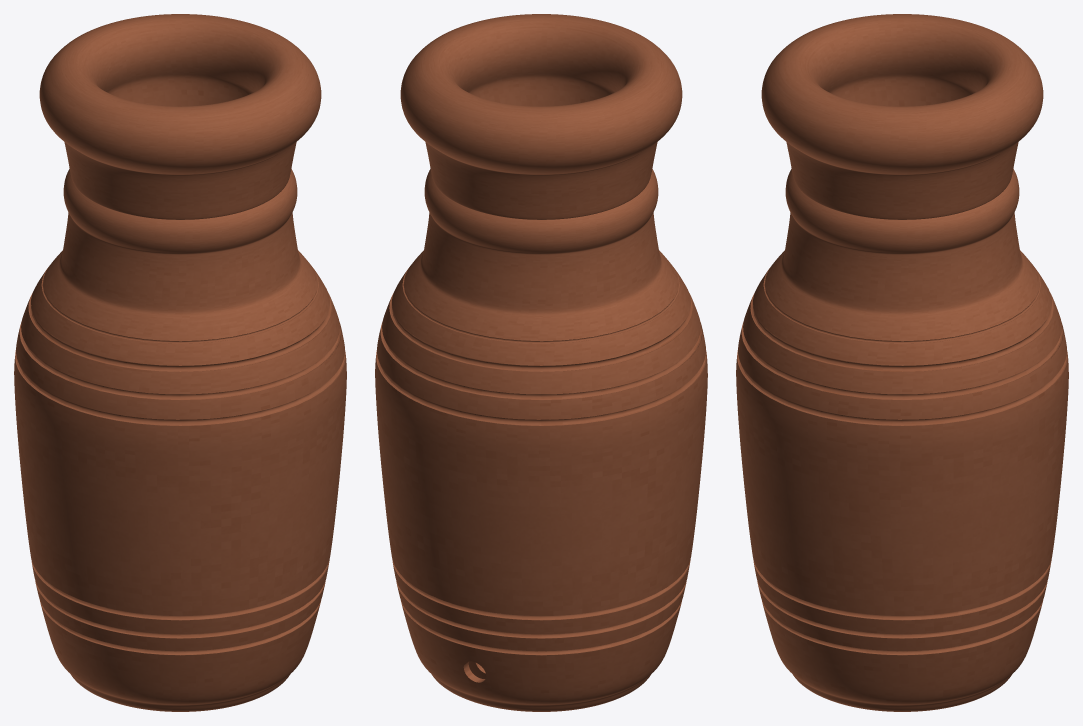
The model's file is baa6980b-ff7c-433e-bec2-0d16cbe5fe07.glb.
3 views of the same model, side by side, from view 1: azimuth 30°, elevation 25°; view 2: azimuth 150°, elevation 25°; view 3: azimuth 270°, elevation 25° (orthographic).
Parts seen in each view (by area): view 1: Cube; view 2: Cube; view 3: Cube.
Part boxes in pixels (left/top/right/bottom): Cube: left=14, top=14, right=346, bottom=711; Cube: left=375, top=14, right=707, bottom=711; Cube: left=736, top=14, right=1068, bottom=711.
Size of the model in its own units: 1.96 by 3.96 by 1.96.
Materials: 1 (1 with a texture image).
